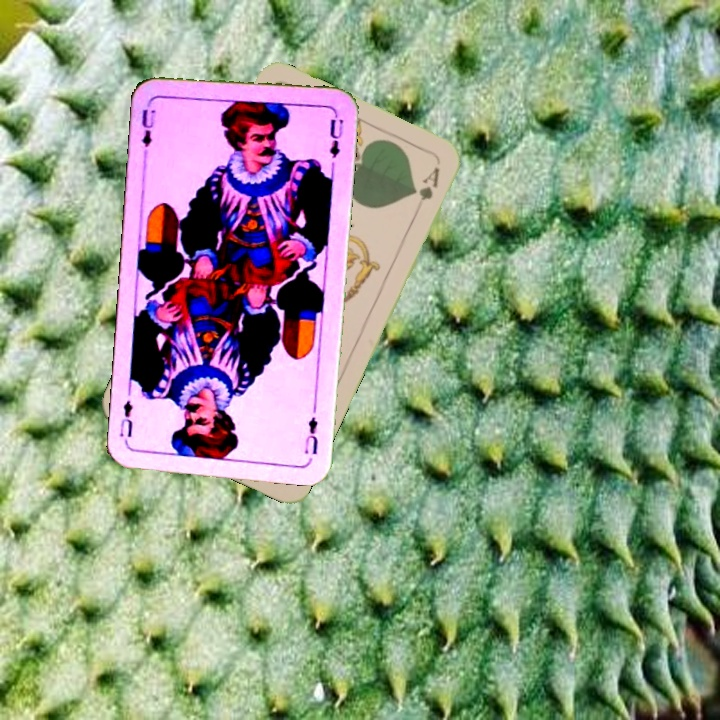EU: (137, 98, 158, 157), (300, 412, 321, 457)
